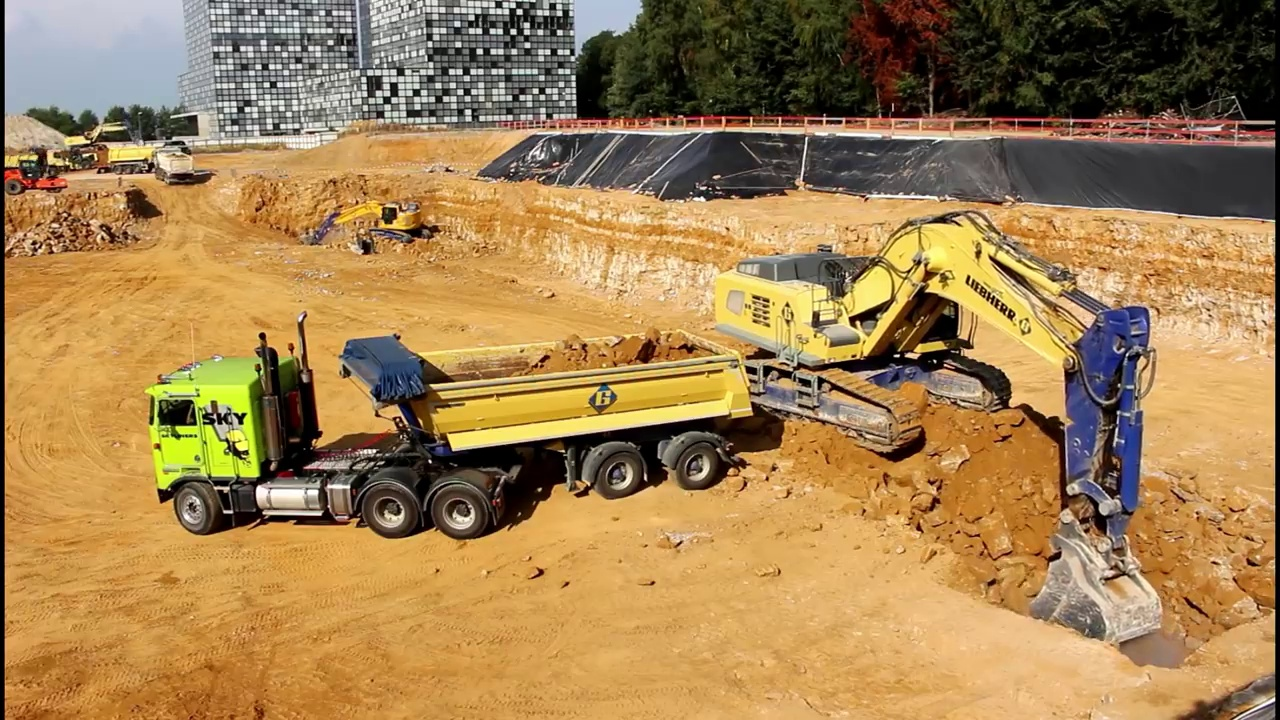excavator: (666, 206, 1171, 648), (304, 196, 442, 255), (57, 119, 136, 158), (6, 157, 73, 198)
truck: (140, 307, 759, 543), (92, 133, 192, 175), (5, 141, 70, 178), (150, 144, 202, 186)
